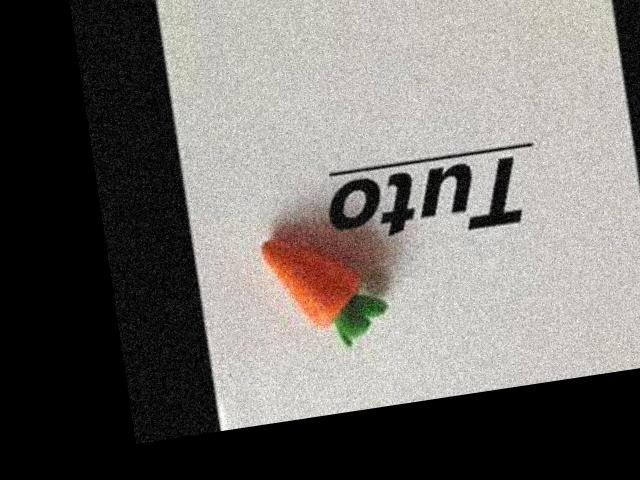carrot: (244, 204, 368, 335)
